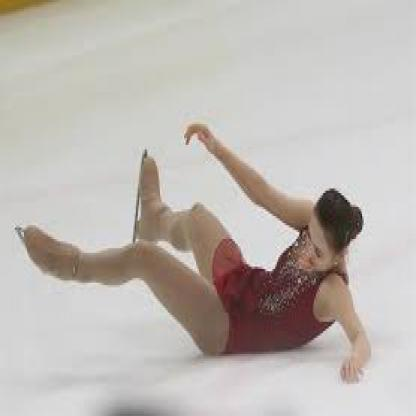Fall_Down: (21, 118, 374, 389)
